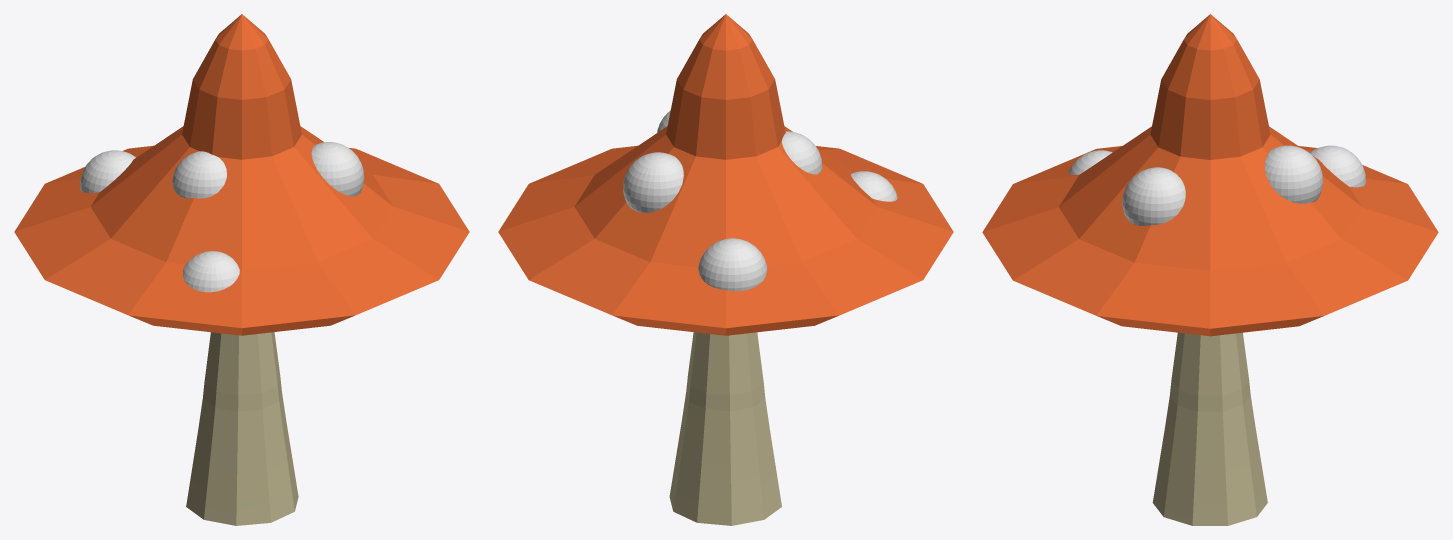
The model's file is mantaryeni.fbx.
3 renders of one model, left to right at view 1: azimuth 30°, elevation 25°; view 2: azimuth 150°, elevation 25°; view 3: azimuth 270°, elevation 25°, orthographic.
Parts seen in each view (by area): view 1: Cylinder.005, Cylinder.003, Sphere, Sphere.001, Sphere.004, Sphere.003; view 2: Cylinder.005, Cylinder.003, Sphere.002, Sphere.003, Sphere, Sphere.004; view 3: Cylinder.005, Cylinder.003, Sphere.001, Sphere.002, Sphere.003, Sphere.004.
Part boxes in pixels (<box>): Cylinder.005: <box>14,14,469,335</box>; Cylinder.003: <box>186,332,298,525</box>; Sphere: <box>172,151,226,198</box>; Sphere.001: <box>311,142,364,196</box>; Sphere.004: <box>183,251,239,292</box>; Sphere.003: <box>80,150,135,193</box>; Cylinder.005: <box>498,14,953,335</box>; Cylinder.003: <box>669,332,781,525</box>; Sphere.002: <box>623,152,683,212</box>; Sphere.003: <box>698,238,767,291</box>; Sphere: <box>781,131,822,174</box>; Sphere.004: <box>851,171,897,201</box>; Cylinder.005: <box>982,14,1438,336</box>; Cylinder.003: <box>1152,332,1267,525</box>; Sphere.001: <box>1122,167,1185,225</box>; Sphere.002: <box>1265,145,1323,203</box>; Sphere.003: <box>1310,145,1366,187</box>; Sphere.004: <box>1068,150,1112,174</box>.
Size of the model in its own units: 1294 by 1529 by 1294.
